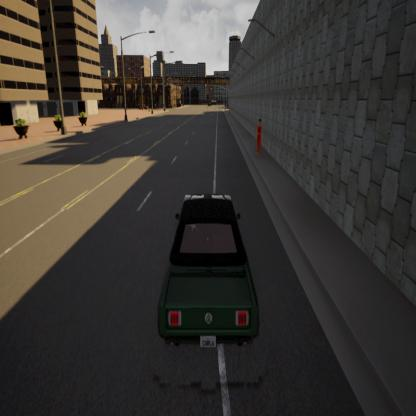Cars: (148, 181, 266, 364)
Pedestrian: (252, 115, 266, 164)
